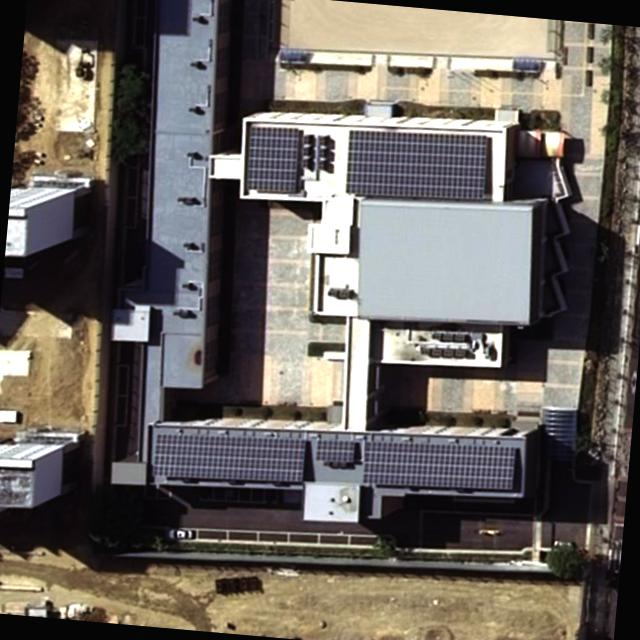solar: (344, 124, 492, 207), (359, 436, 519, 497), (148, 432, 310, 490), (238, 124, 305, 196)
